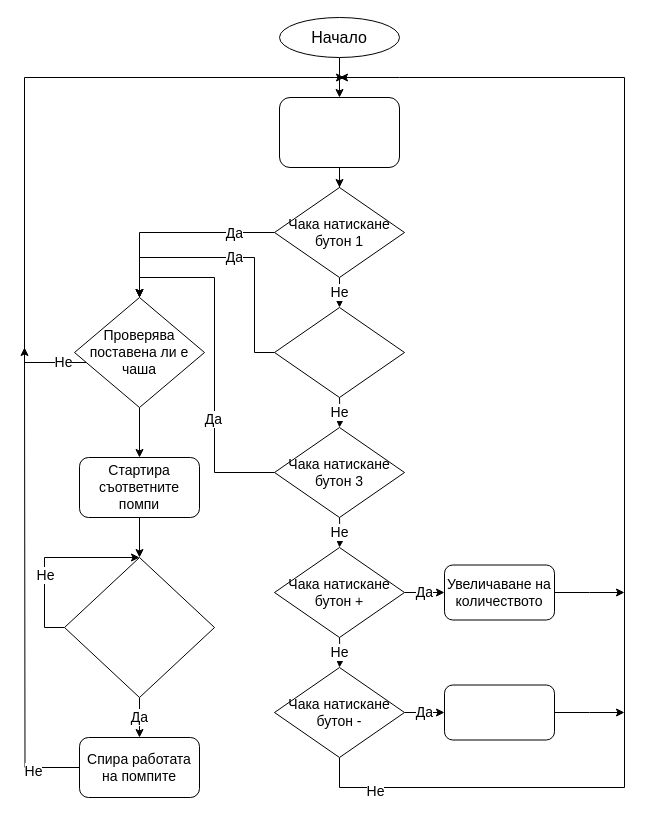
The diagram is 650 pixels wide and 817 high, and some of its shapes have lost their labels. The centre of each missing label's shape, as x and y in pixels:
"Количестово за сипване се изобразява на дисплея" belongs at (x=339, y=132).
"Намяляне на количеството" belongs at (x=499, y=712).
"Проверява достатъчно ли се е увеличило теглото на чашата" belongs at (x=139, y=627).
"Чака натискане бутон 2" belongs at (x=339, y=352).
